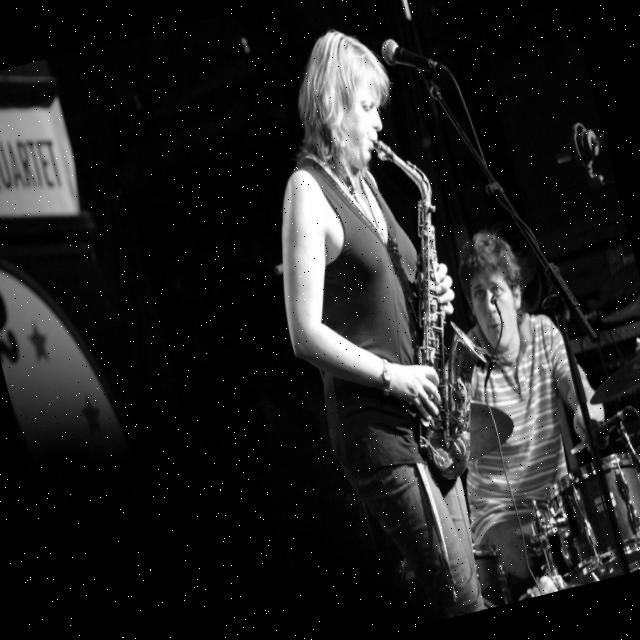drums: (349, 331, 640, 627)
saxophone: (344, 119, 518, 488)
